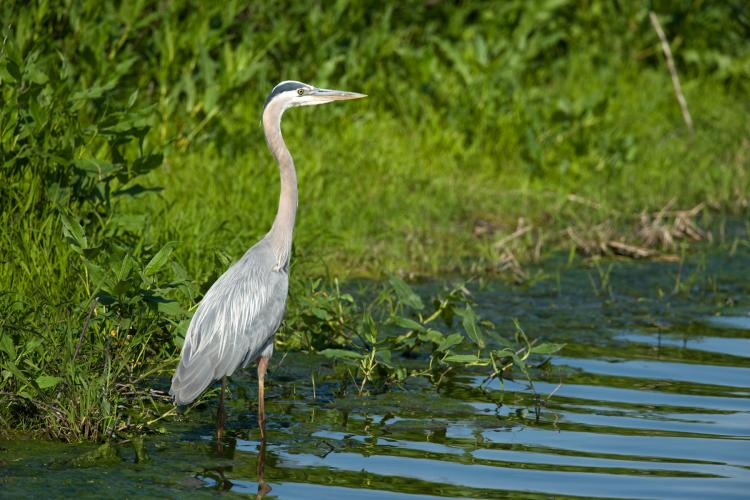heron: (178, 74, 360, 472)
